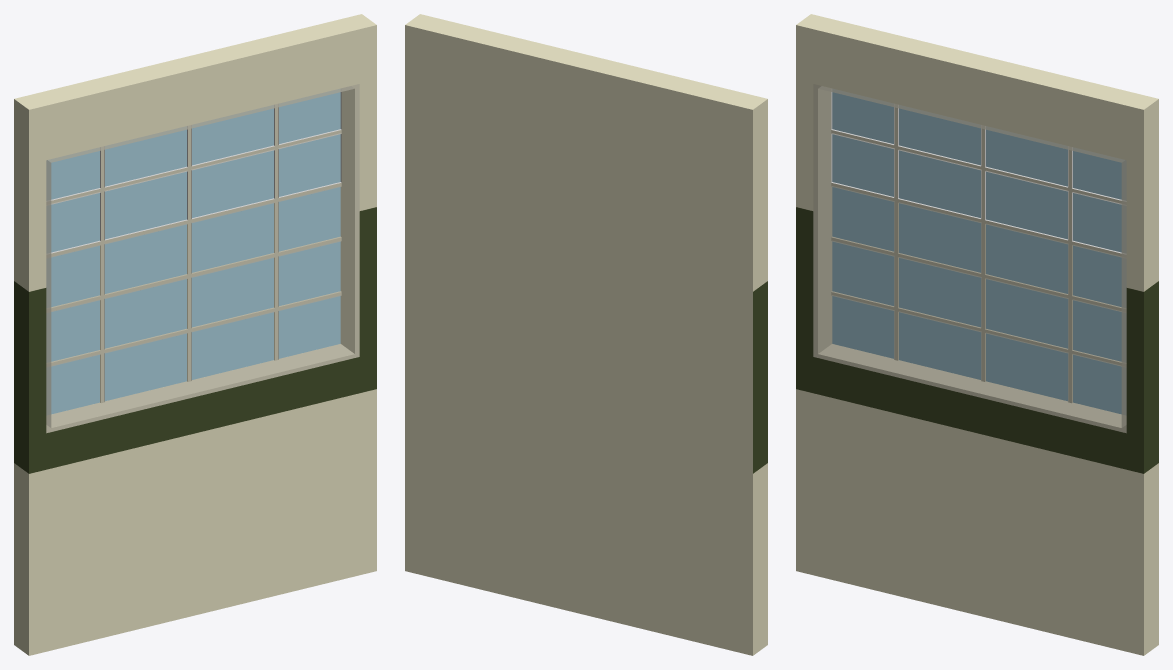
File: InteriorWall_Window_Str_ExportPrep.gltf
3 renders of one model, left to right at view 1: azimuth 30°, elevation 25°; view 2: azimuth 150°, elevation 25°; view 3: azimuth 330°, elevation 25°, orthographic.
Parts seen in each view (by area): view 1: InteriorWall_Window_Str; view 2: InteriorWall_Window_Str; view 3: InteriorWall_Window_Str.
Boxes of the visible parts, x1,y1,x2,y2 form: InteriorWall_Window_Str: (14, 14, 376, 655); InteriorWall_Window_Str: (405, 14, 767, 655); InteriorWall_Window_Str: (796, 14, 1158, 655).
Size of the model in its own units: 2 by 3 by 0.15.
